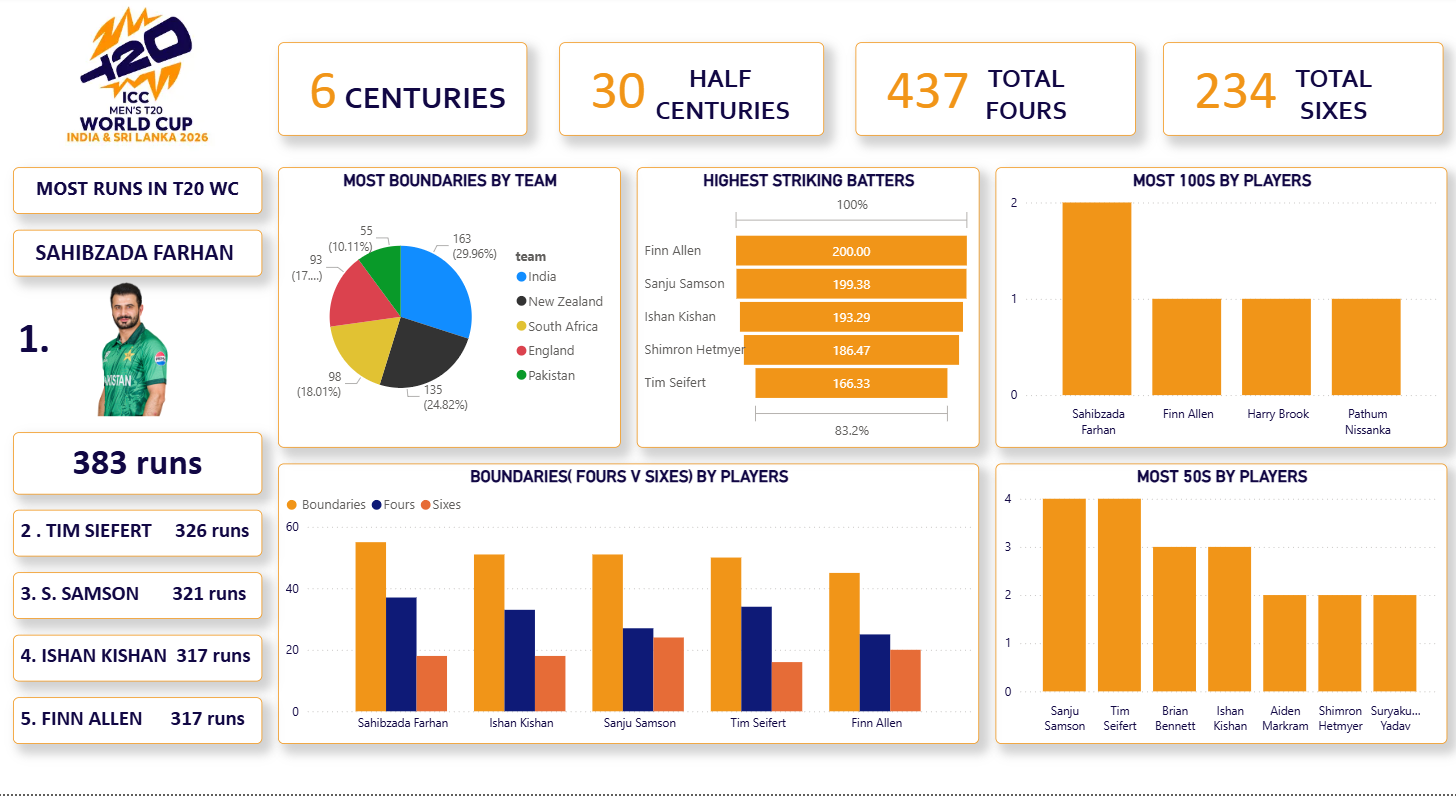

The page's visual inventory and layout, read from the dashboard file:
{"tool":"powerbi","page":{"name":"Page 2","canvas":[1500,820],"ordinal":1},"visuals":[{"type":"image","box":[16,0,256,160],"z":0},{"type":"cardVisual","fields":{"Data":["Sum(batting_stats.hundreds)"]},"box":[288,48,256,96],"z":0,"group":"g3"},{"type":"cardVisual","fields":{"Data":["Sum(batting_stats.fifties)"]},"box":[576,48,272,96],"z":0,"group":"g4"},{"type":"columnChart","title":"MOST 50S BY PLAYERS","fields":{"Y":["Sum(batting_stats.fifties)"],"Category":["batting_stats.player"]},"box":[1024,480,464,288],"z":1000},{"type":"group","id":"g1","title":"Group 1","box":[1196,48,304,96],"z":2000},{"type":"textbox","box":[608,64,272,80],"z":2000,"group":"g4"},{"type":"textbox","box":[304,80,272,80],"z":2000,"group":"g3"},{"type":"group","id":"g2","title":"Group 2","box":[880,48,304,96],"z":3000},{"type":"cardVisual","fields":{"Data":["batting_stats.Total Fours"]},"box":[880,48,288,96],"z":3000,"group":"g2"},{"type":"group","id":"g3","title":"Group 3","box":[288,48,288,112],"z":4000},{"type":"cardVisual","fields":{"Data":["batting_stats.Total Sixes"]},"box":[1196,48,288,96],"z":4000,"group":"g1"},{"type":"textbox","box":[928,64,256,80],"z":5000,"group":"g2"},{"type":"columnChart","title":"MOST 100S BY PLAYERS","fields":{"Category":["batting_stats.player"],"Y":["Sum(batting_stats.hundreds)"]},"box":[1024,176,464,288],"z":5000},{"type":"textbox","box":[1244,64,256,80],"z":6000,"group":"g1"},{"type":"clusteredColumnChart","title":" BOUNDARIES( FOURS V SIXES) BY PLAYERS","fields":{"Category":["batting_stats.player"],"Y":["Sum(batting_stats.Boundaries)","Sum(batting_stats.fours)","Sum(batting_stats.sixes)"]},"box":[288,480,720,288],"z":6000},{"type":"funnel","title":"HIGHEST STRIKING BATTERS","fields":{"Category":["batting_stats.player"],"Y":["Sum(batting_stats.strike_rate)"]},"box":[656,176,352,288],"z":7000},{"type":"pieChart","title":"MOST BOUNDARIES BY TEAM","fields":{"Category":["batting_stats.team"],"Y":["Sum(batting_stats.Boundaries)"]},"box":[288,176,352,288],"z":8000},{"type":"group","id":"g4","title":"Group 3","box":[576,48,304,96],"z":9000},{"type":"image","box":[16,288,256,144],"z":10000},{"type":"textbox","box":[16,448,256,64],"z":11000},{"type":"textbox","box":[16,320,256,64],"z":12000},{"type":"textbox","box":[16,176,256,48],"z":13000},{"type":"textbox","box":[16,528,256,48],"z":14000},{"type":"textbox","box":[16,240,256,48],"z":15000},{"type":"textbox","box":[16,592,256,48],"z":16000},{"type":"textbox","box":[16,656,256,48],"z":17000},{"type":"textbox","box":[16,720,256,48],"z":18000}]}

Visuals, with their boxes in screenshot pixels (x1, y1, x2, y2), scaled from the page's 1500x820 canvas onto the 1456x799 screenshot:
image: bbox=[16, 0, 264, 156]
cardVisual - Sum(batting_stats.hundreds): bbox=[280, 47, 528, 140]
cardVisual - Sum(batting_stats.fifties): bbox=[559, 47, 823, 140]
"MOST 50S BY PLAYERS" columnChart: bbox=[994, 468, 1444, 748]
"Group 1" group: bbox=[1161, 47, 1455, 140]
textbox: bbox=[590, 62, 854, 140]
textbox: bbox=[295, 78, 559, 156]
"Group 2" group: bbox=[854, 47, 1149, 140]
cardVisual - batting_stats.Total Fours: bbox=[854, 47, 1134, 140]
"Group 3" group: bbox=[280, 47, 559, 156]
cardVisual - batting_stats.Total Sixes: bbox=[1161, 47, 1440, 140]
textbox: bbox=[901, 62, 1149, 140]
"MOST 100S BY PLAYERS" columnChart: bbox=[994, 171, 1444, 452]
textbox: bbox=[1208, 62, 1455, 140]
" BOUNDARIES( FOURS V SIXES) BY PLAYERS" clusteredColumnChart: bbox=[280, 468, 978, 748]
"HIGHEST STRIKING BATTERS" funnel: bbox=[637, 171, 978, 452]
"MOST BOUNDARIES BY TEAM" pieChart: bbox=[280, 171, 621, 452]
"Group 3" group: bbox=[559, 47, 854, 140]
image: bbox=[16, 281, 264, 421]
textbox: bbox=[16, 437, 264, 499]
textbox: bbox=[16, 312, 264, 374]
textbox: bbox=[16, 171, 264, 218]
textbox: bbox=[16, 514, 264, 561]
textbox: bbox=[16, 234, 264, 281]
textbox: bbox=[16, 577, 264, 624]
textbox: bbox=[16, 639, 264, 686]
textbox: bbox=[16, 702, 264, 748]
